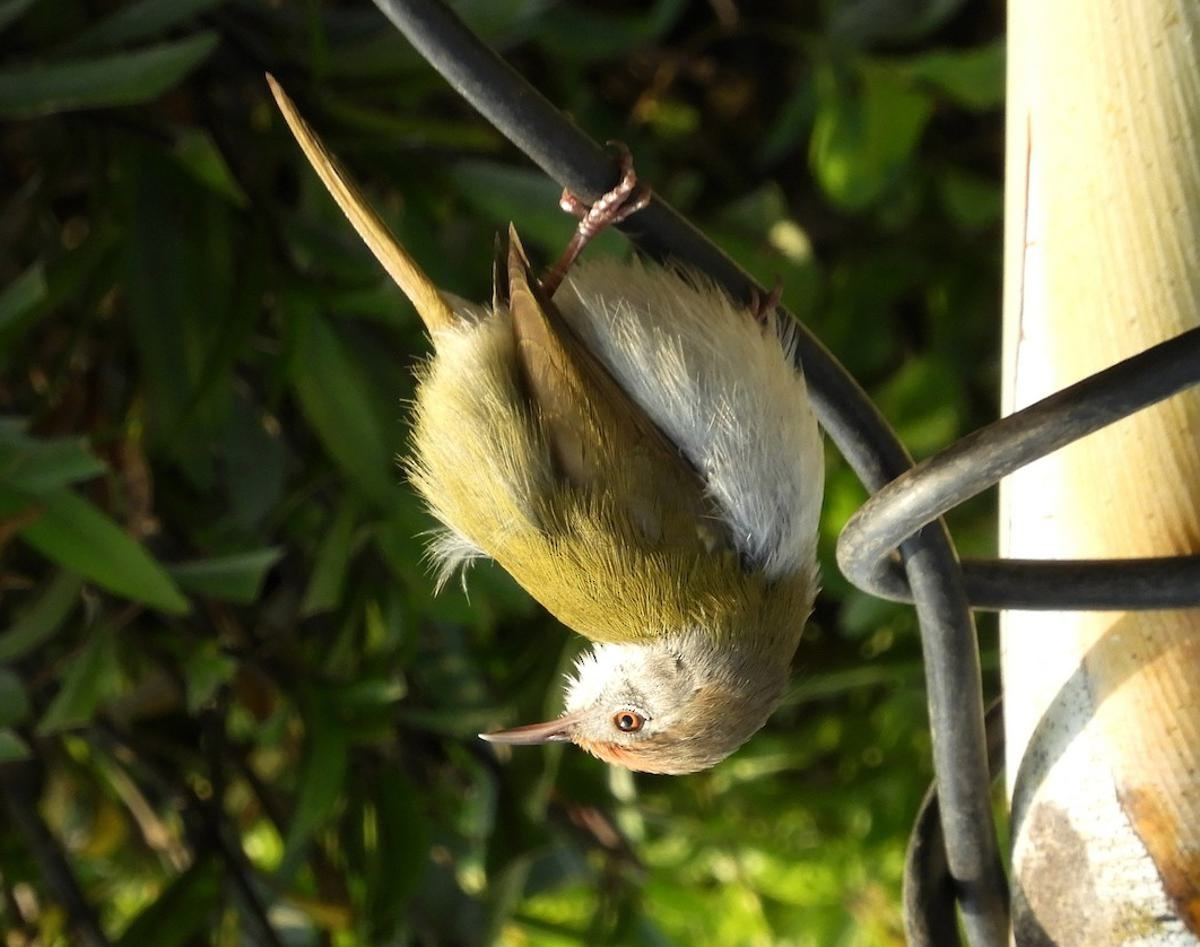tailorbird: (274, 144, 830, 795)
